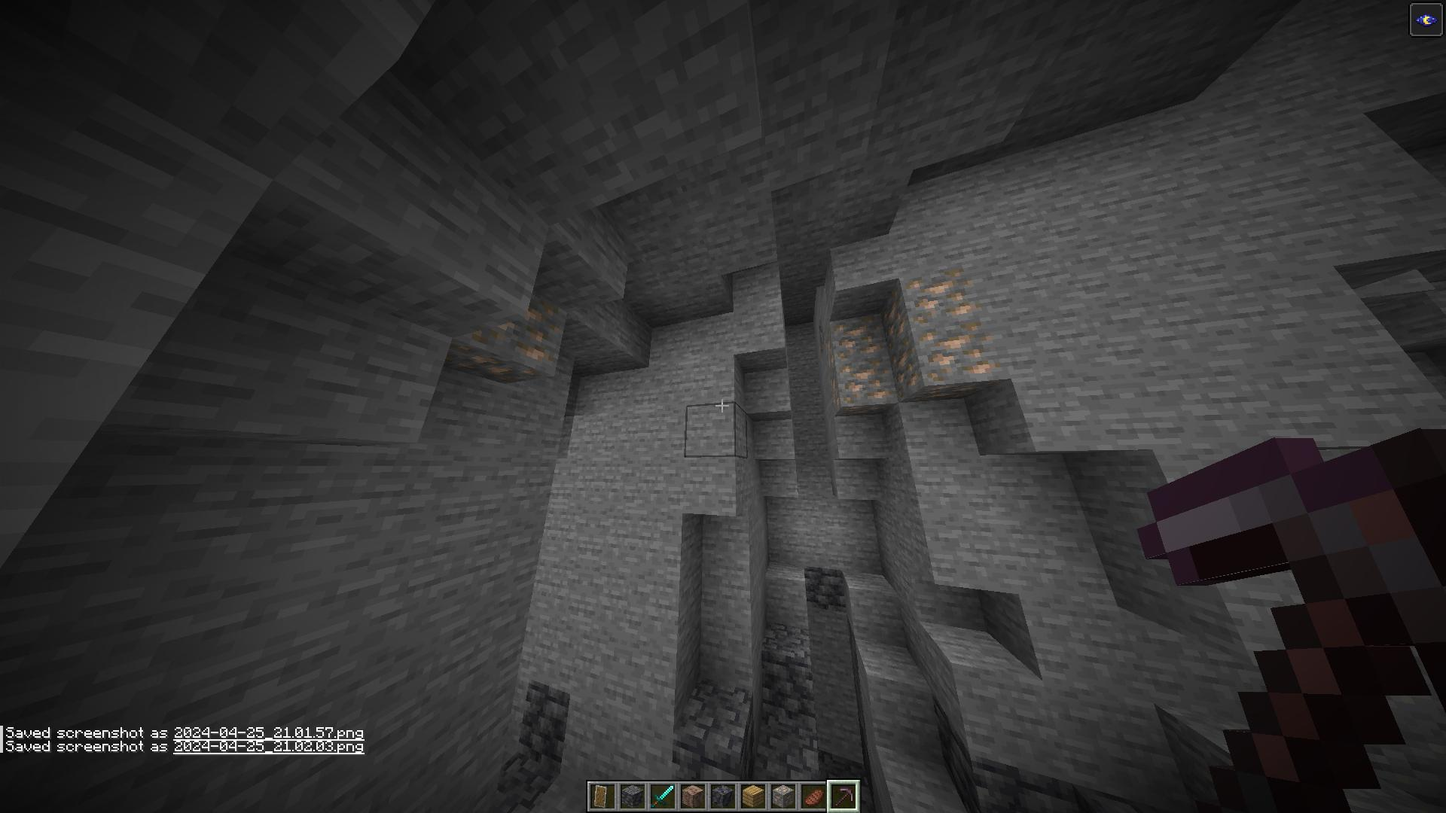iron ore: (880, 266, 1002, 402), (445, 287, 569, 386), (822, 314, 894, 414)
